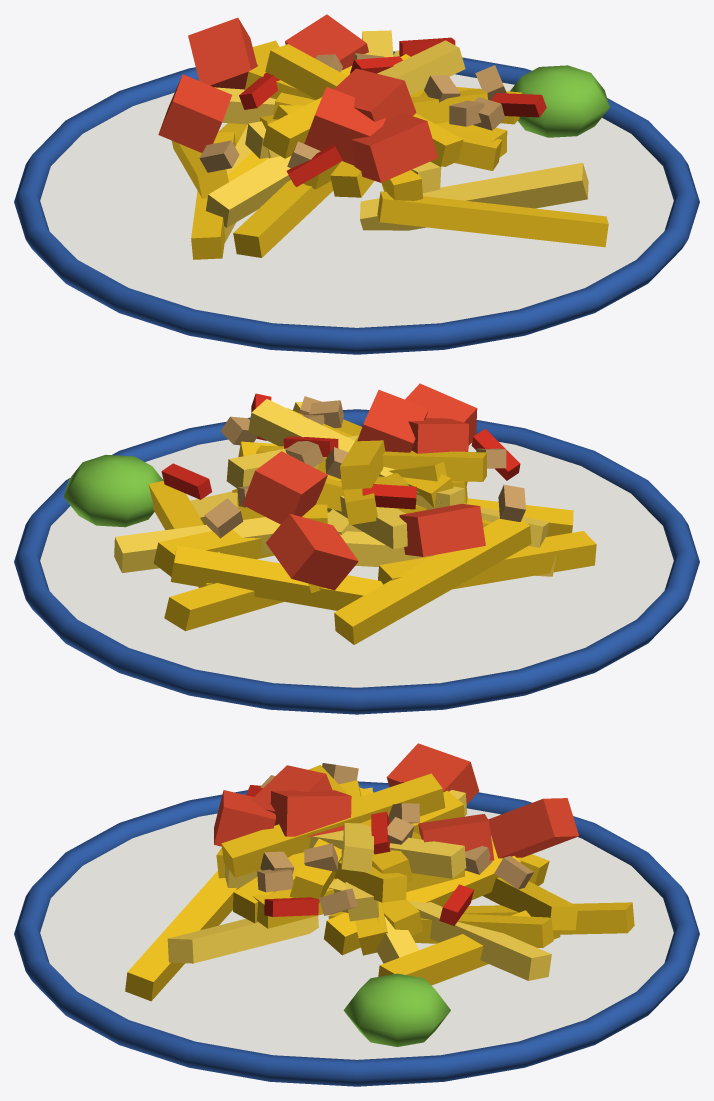
Rendered from dish_tam_corn.glb.
3 views of the same model, one above another, from view 1: azimuth 30°, elevation 25°; view 2: azimuth 150°, elevation 25°; view 3: azimuth 270°, elevation 25° (orthographic).
Parts seen in each view (by area): view 1: dish_tam_corn; view 2: dish_tam_corn; view 3: dish_tam_corn.
Part boxes in pixels (x1,y1,x2,y2): dish_tam_corn: [14, 14, 699, 354]; dish_tam_corn: [14, 383, 699, 714]; dish_tam_corn: [14, 743, 699, 1086].
Bounding box in the file's own units: 0.51 × 0.1519 × 0.51.
